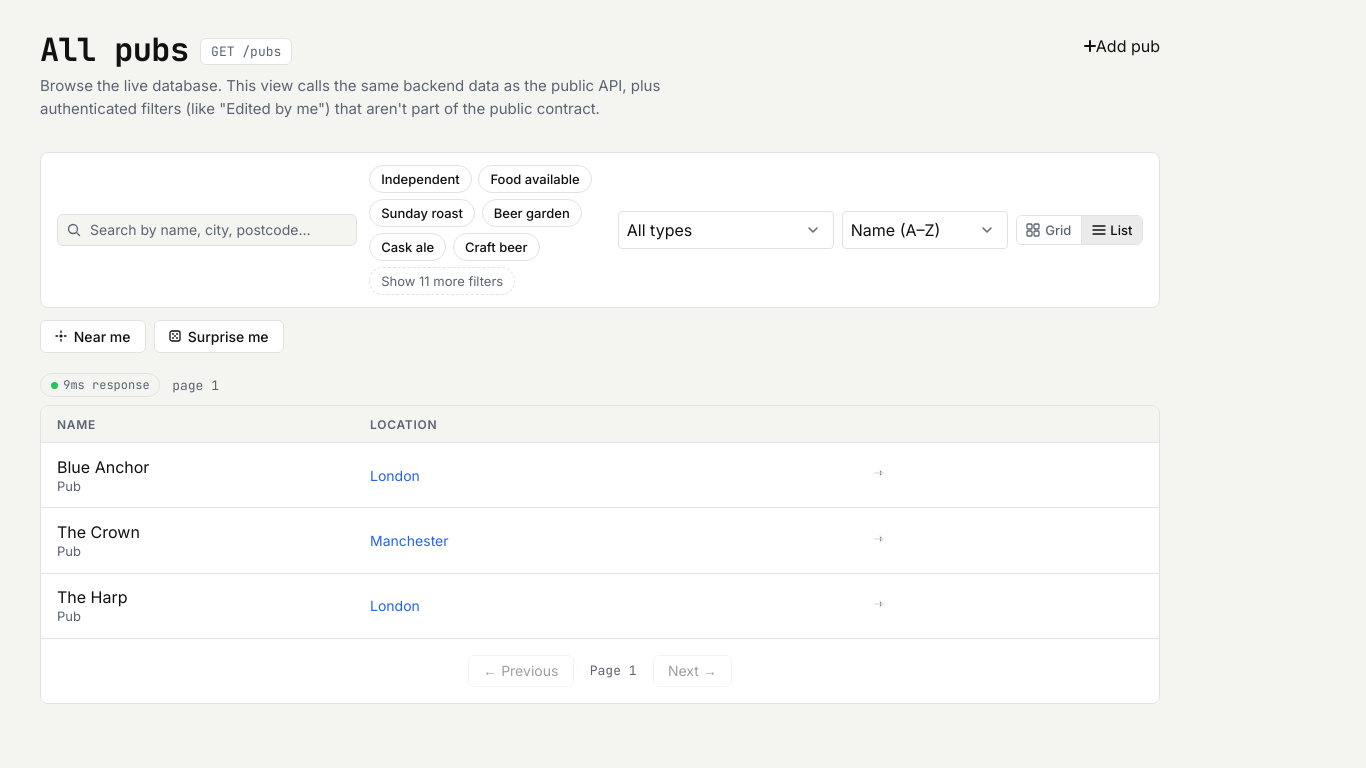
Pubs page › Near me › shows a message when the browser has no geolocation support
Expected: the link "The Harp" is shown, [57,587,128,607]
Click the button "Near me": click(93, 336) [40,320,146,353]
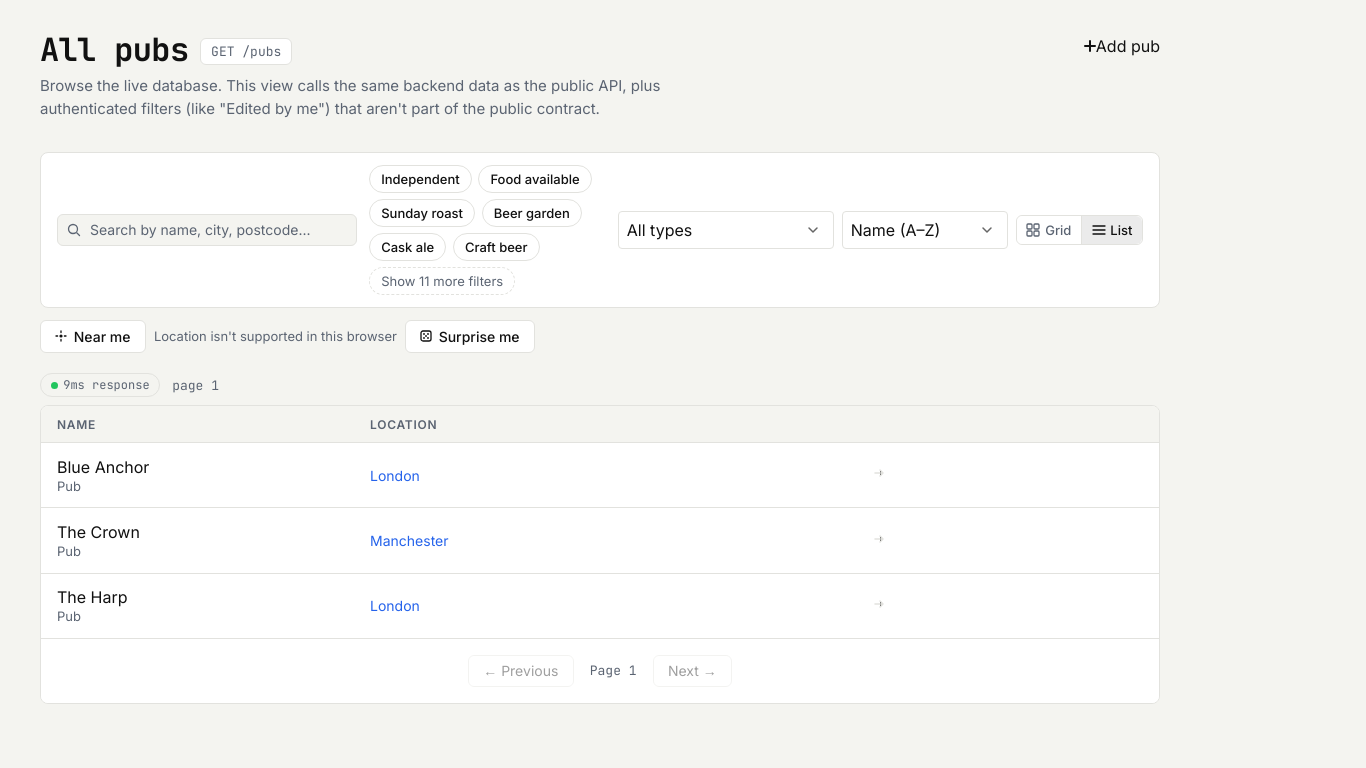
Result: the text "Location isn't supported in this browser" is shown at [154,328,397,344]
